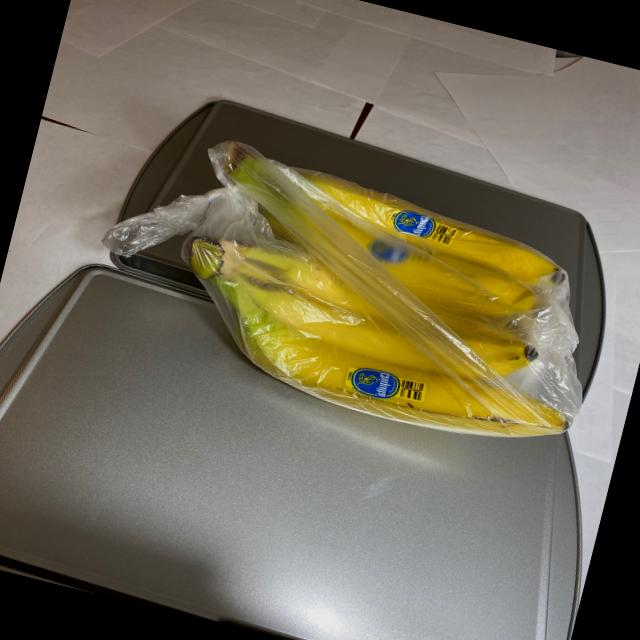banana: (137, 122, 633, 474)
